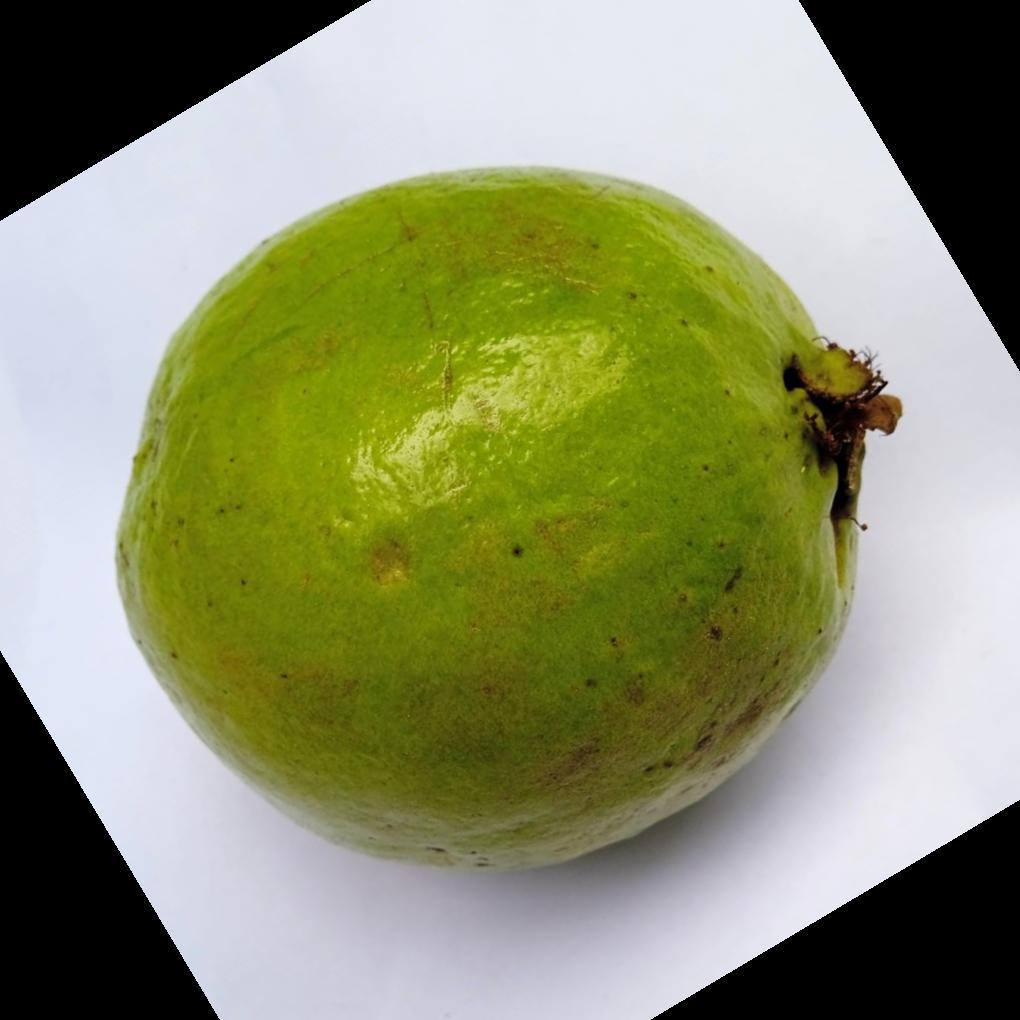FreshGuava: (111, 166, 902, 877)
